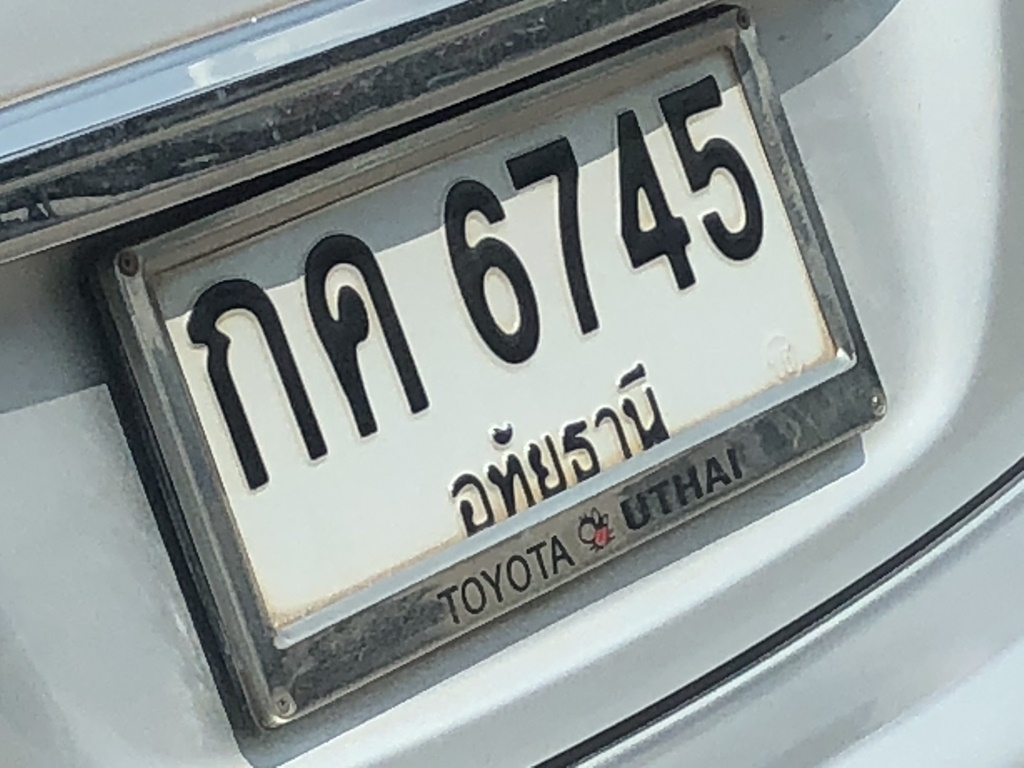five: (648, 60, 785, 274)
four: (585, 93, 706, 291)
seven: (492, 120, 641, 340)
six: (391, 155, 561, 366)
